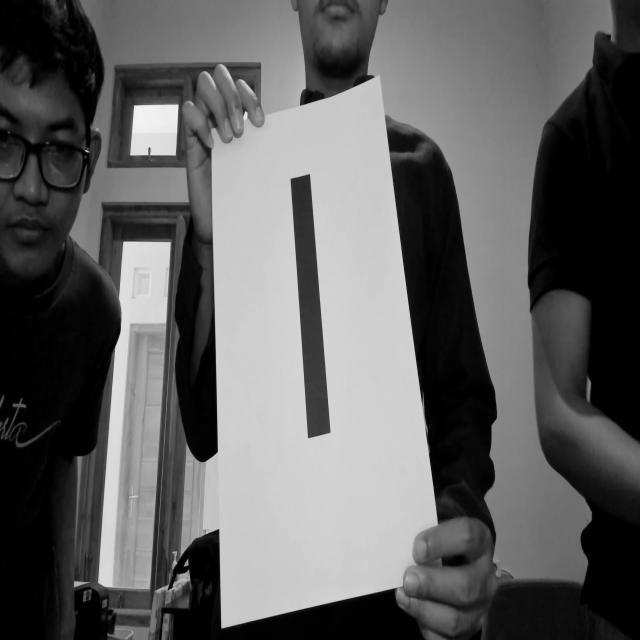i: (270, 144, 345, 449)
